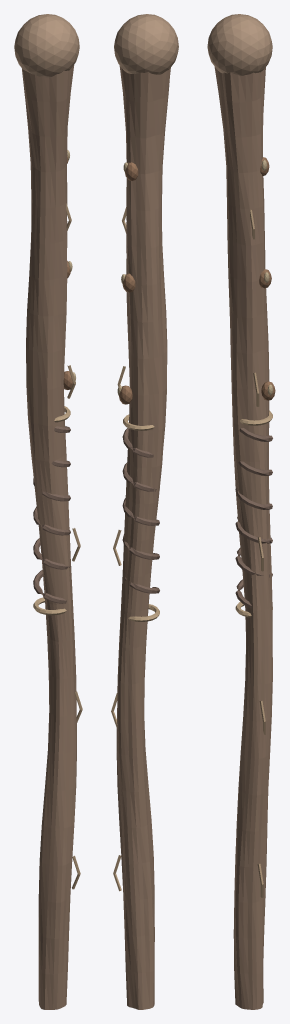
Rendered from wandelstaf.glb.
3 views of the same model, side by side, from view 1: azimuth 30°, elevation 25°; view 2: azimuth 210°, elevation 25°; view 3: azimuth 330°, elevation 25° (orthographic).
Parts seen in each view (by area): view 1: wandelstaf; view 2: wandelstaf; view 3: wandelstaf.
Boxes of the visible parts, x1,y1,x2,y2 form: wandelstaf: (14,14,82,1009); wandelstaf: (111,14,178,1009); wandelstaf: (207,14,275,1009).
Bounding box in the file's own units: 0.0786 × 1.25 × 0.072.
